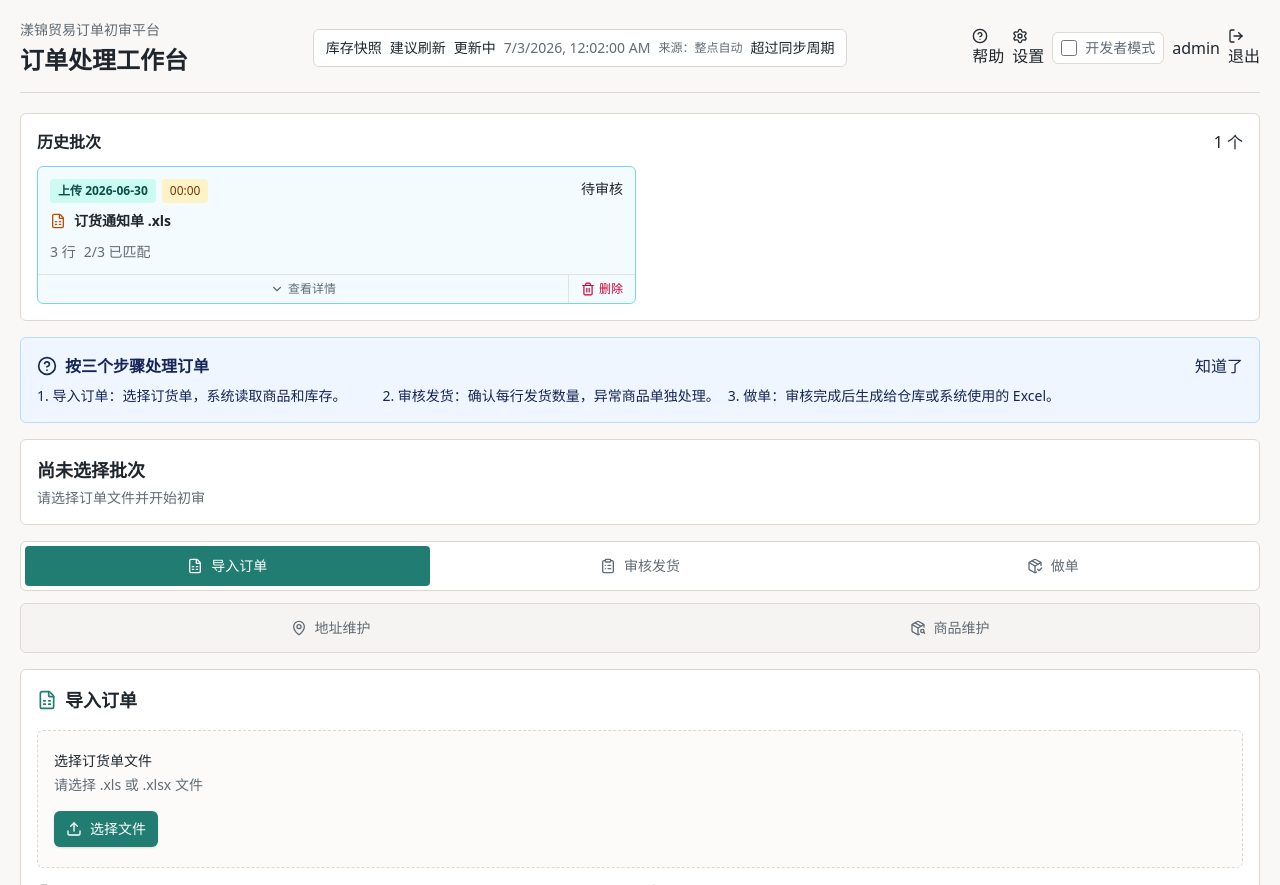
it: App › shows the suite catalog stage during combined synchronization
Click the button "设置": {"x": 1028, "y": 48} left=1012, top=28, right=1044, bottom=68
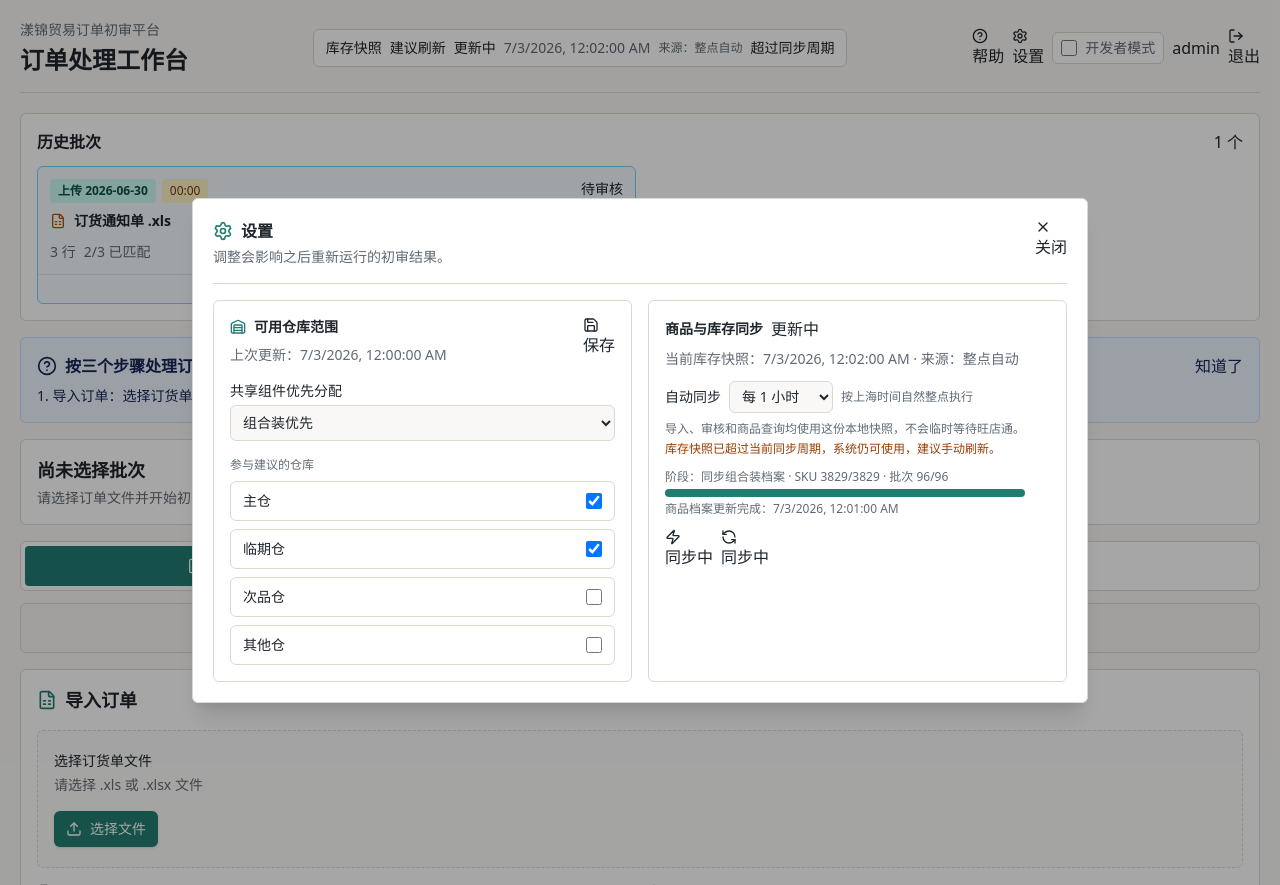
Expected: the text "阶段：同步组合装档案 · SKU 3829/3829 · 批次 96/96" is shown, left=665, top=468, right=948, bottom=484
